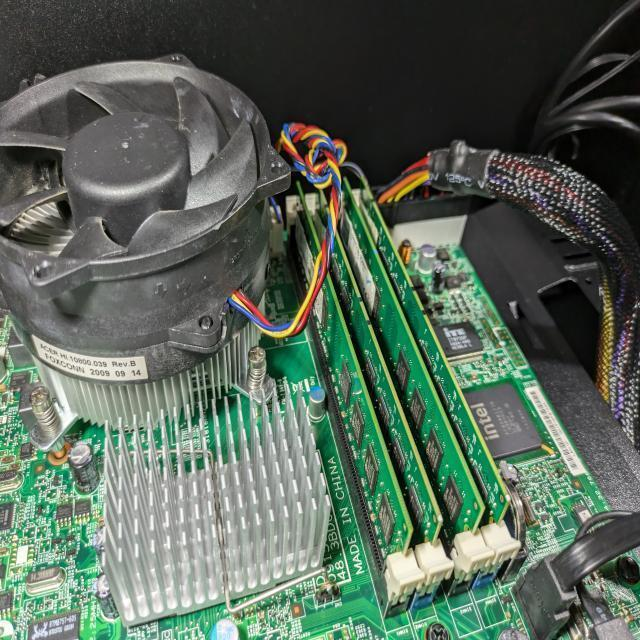CPU_Fan: (0, 59, 266, 428)
Mainboard: (0, 244, 640, 639)
RAM: (343, 178, 514, 608), (322, 169, 486, 612), (306, 189, 443, 604), (284, 172, 414, 593)
